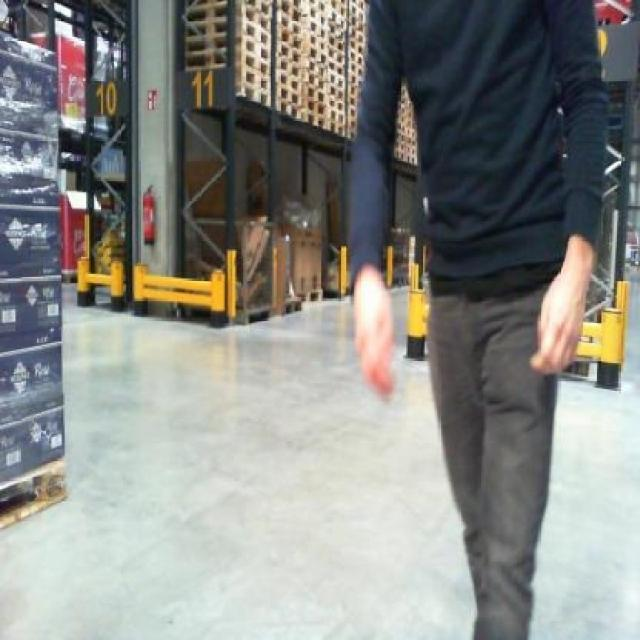floor: (0, 285, 471, 637), (529, 280, 637, 637)
